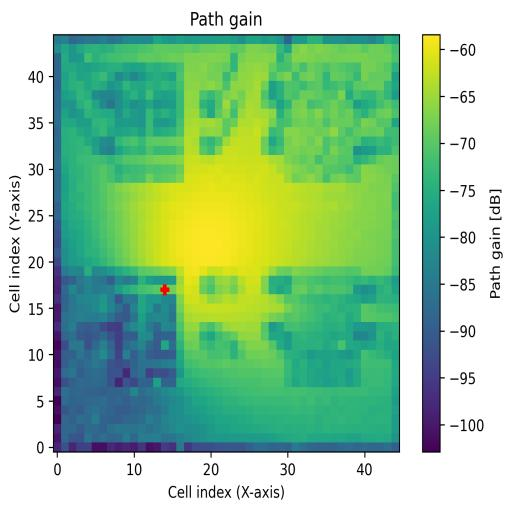Concrete: (284, 62, 360, 184)
Glass: (114, 62, 184, 182)
Metal: (284, 266, 362, 387)
Wood: (106, 276, 177, 389)
